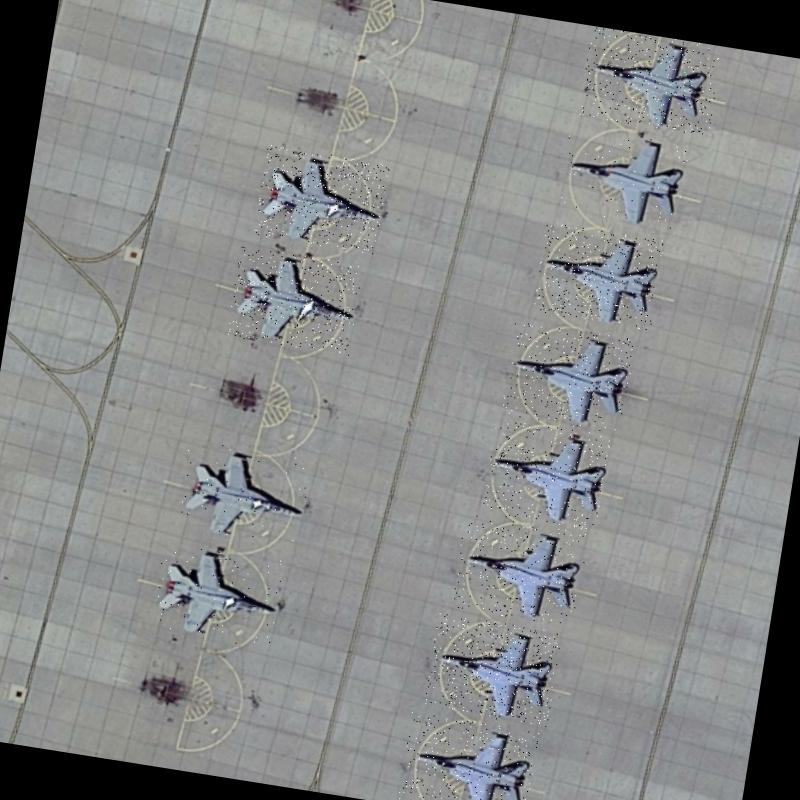A16: (578, 25, 722, 136), (423, 613, 562, 727), (499, 320, 636, 434), (173, 438, 312, 550), (451, 514, 588, 627), (253, 144, 390, 254), (226, 245, 363, 355), (481, 418, 611, 532), (148, 542, 284, 648), (532, 222, 664, 330), (556, 126, 690, 230), (397, 711, 539, 800)
